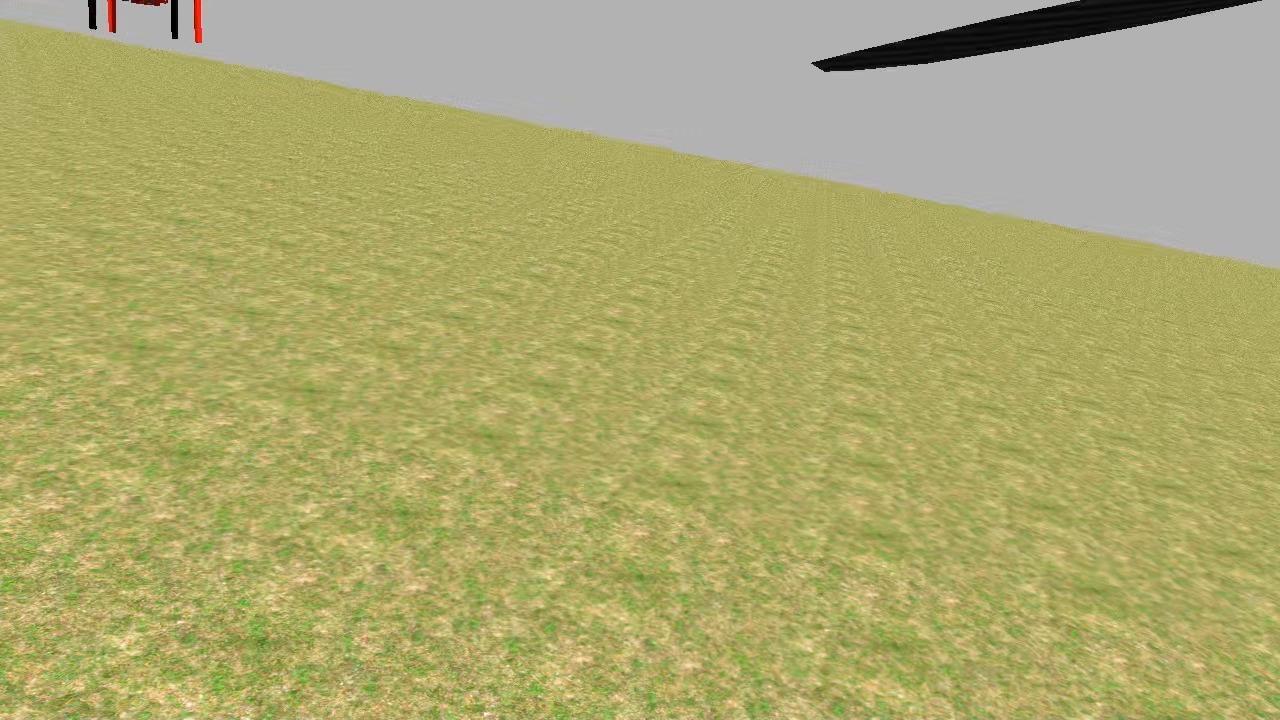UAV: (74, 0, 208, 56)
